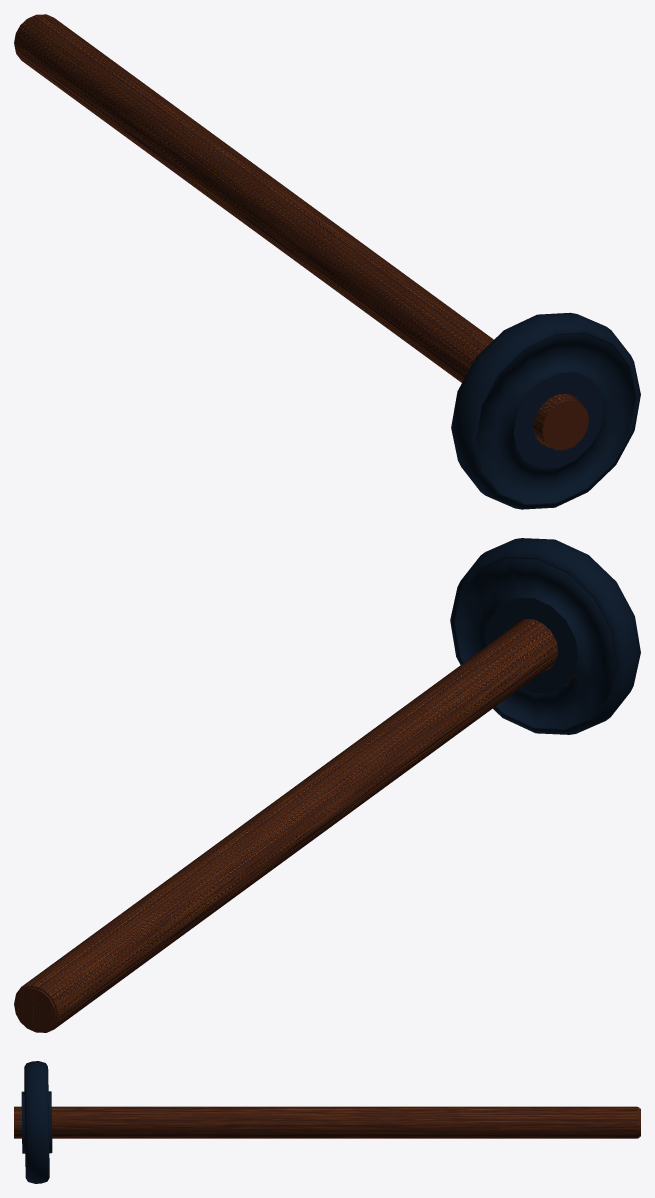
The model's file is woodstick.fbx.
The picture shows the model from 3 angles, top to bottom: view 1: azimuth 30°, elevation 25°; view 2: azimuth 150°, elevation 25°; view 3: azimuth 270°, elevation 25°; orthographic projection. The views are drawn at different scales.
Visible parts, largest first — view 1: Object_28; view 2: Object_28; view 3: Object_28.
Part boxes in pixels (x1=…): Object_28: x1=14, y1=14, x2=640, y2=509; Object_28: x1=14, y1=538, x2=640, y2=1032; Object_28: x1=14, y1=1061, x2=640, y2=1183.
Size of the model in its own units: 99.47 by 99.48 by 508.
Materials: 2 (1 with a texture image).
